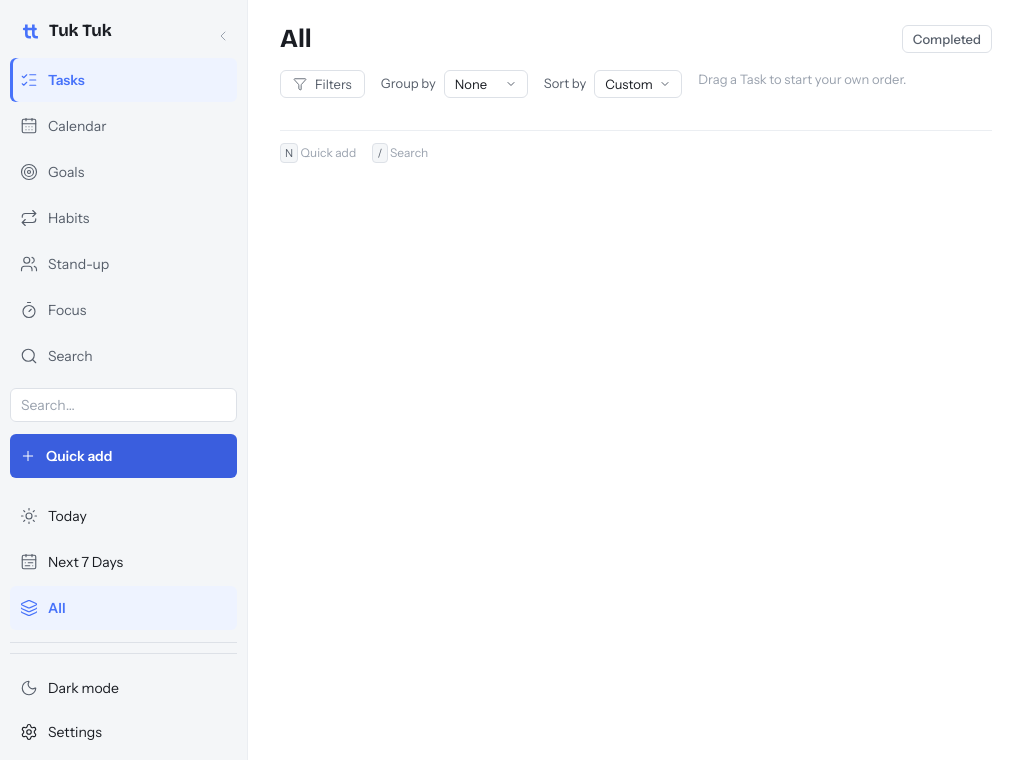
Test: Cancel › discards a running session without recording it
Click the link "Focus".
click(53, 310)  # box [20, 300, 86, 319]
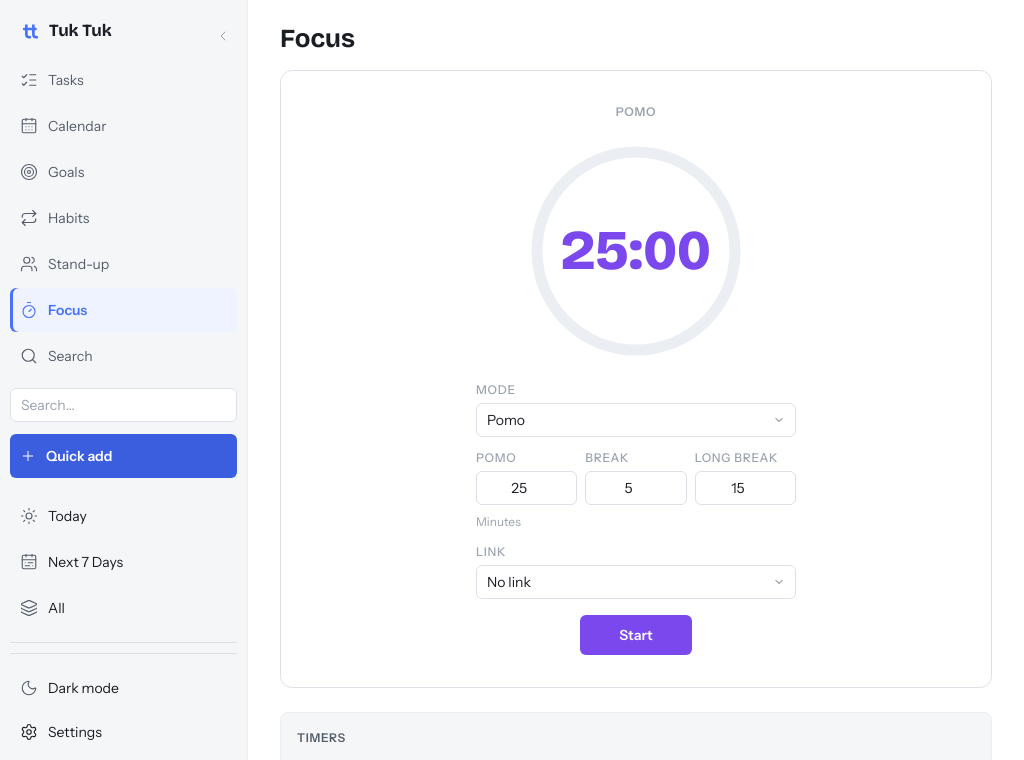
Expected: the heading "Focus" is shown, [280, 24, 355, 54]
Click the button "Start".
click(636, 635)  # box [580, 615, 692, 655]
Wait 60000 ms
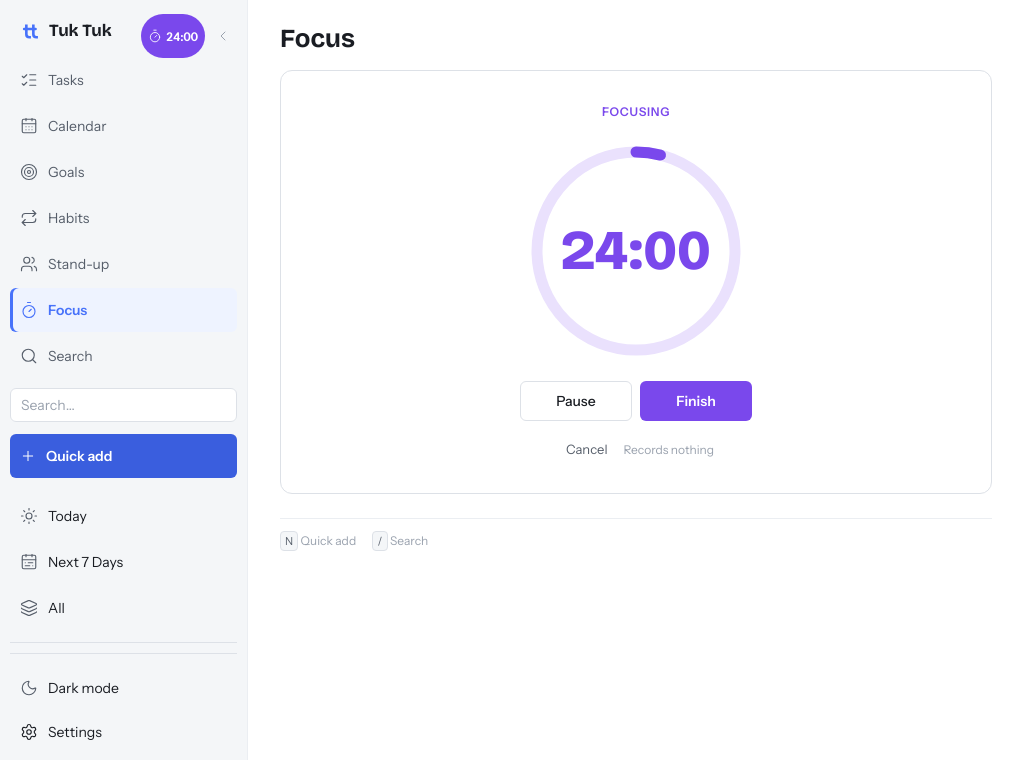
Click the button "Cancel".
click(587, 449)  # box [558, 437, 616, 461]
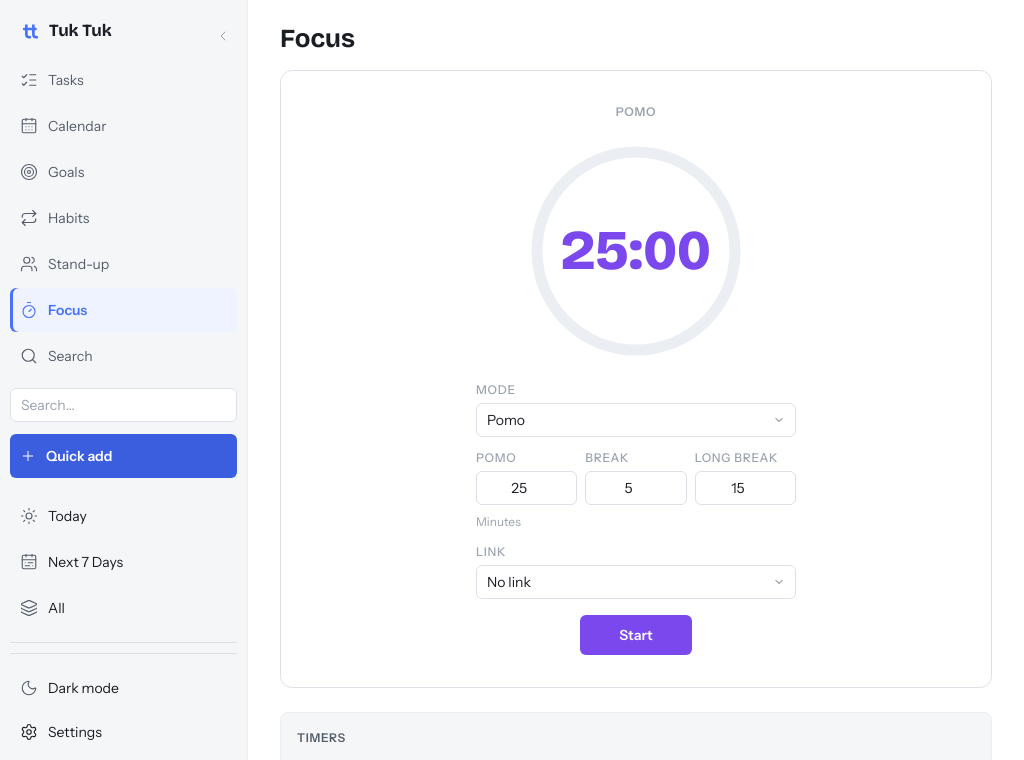
Expected: the button "Start" is shown, [580, 615, 692, 655]
